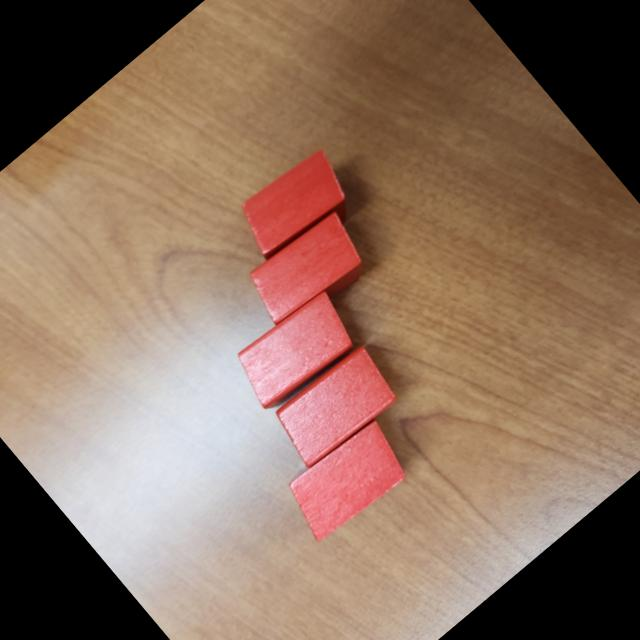red: (238, 202, 380, 339), (224, 282, 366, 418), (276, 414, 418, 550), (266, 339, 406, 474), (229, 140, 358, 264)
